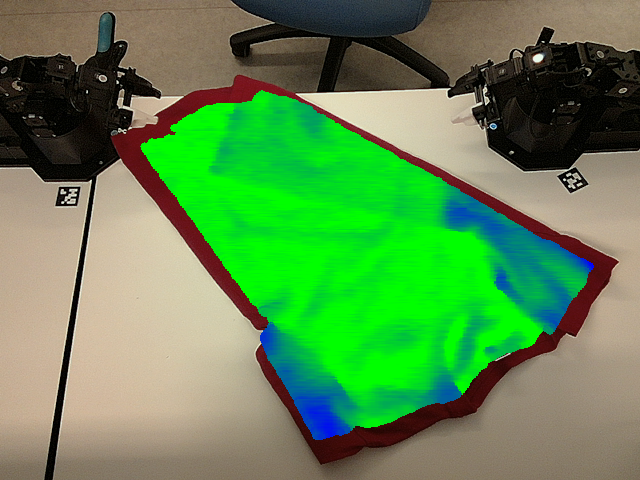V: (203, 145, 244, 186)
